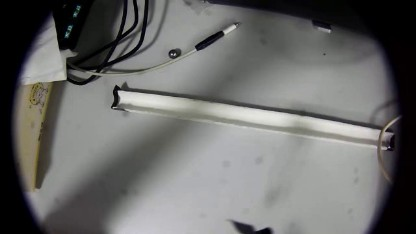gangzhu: (167, 47, 179, 58)
